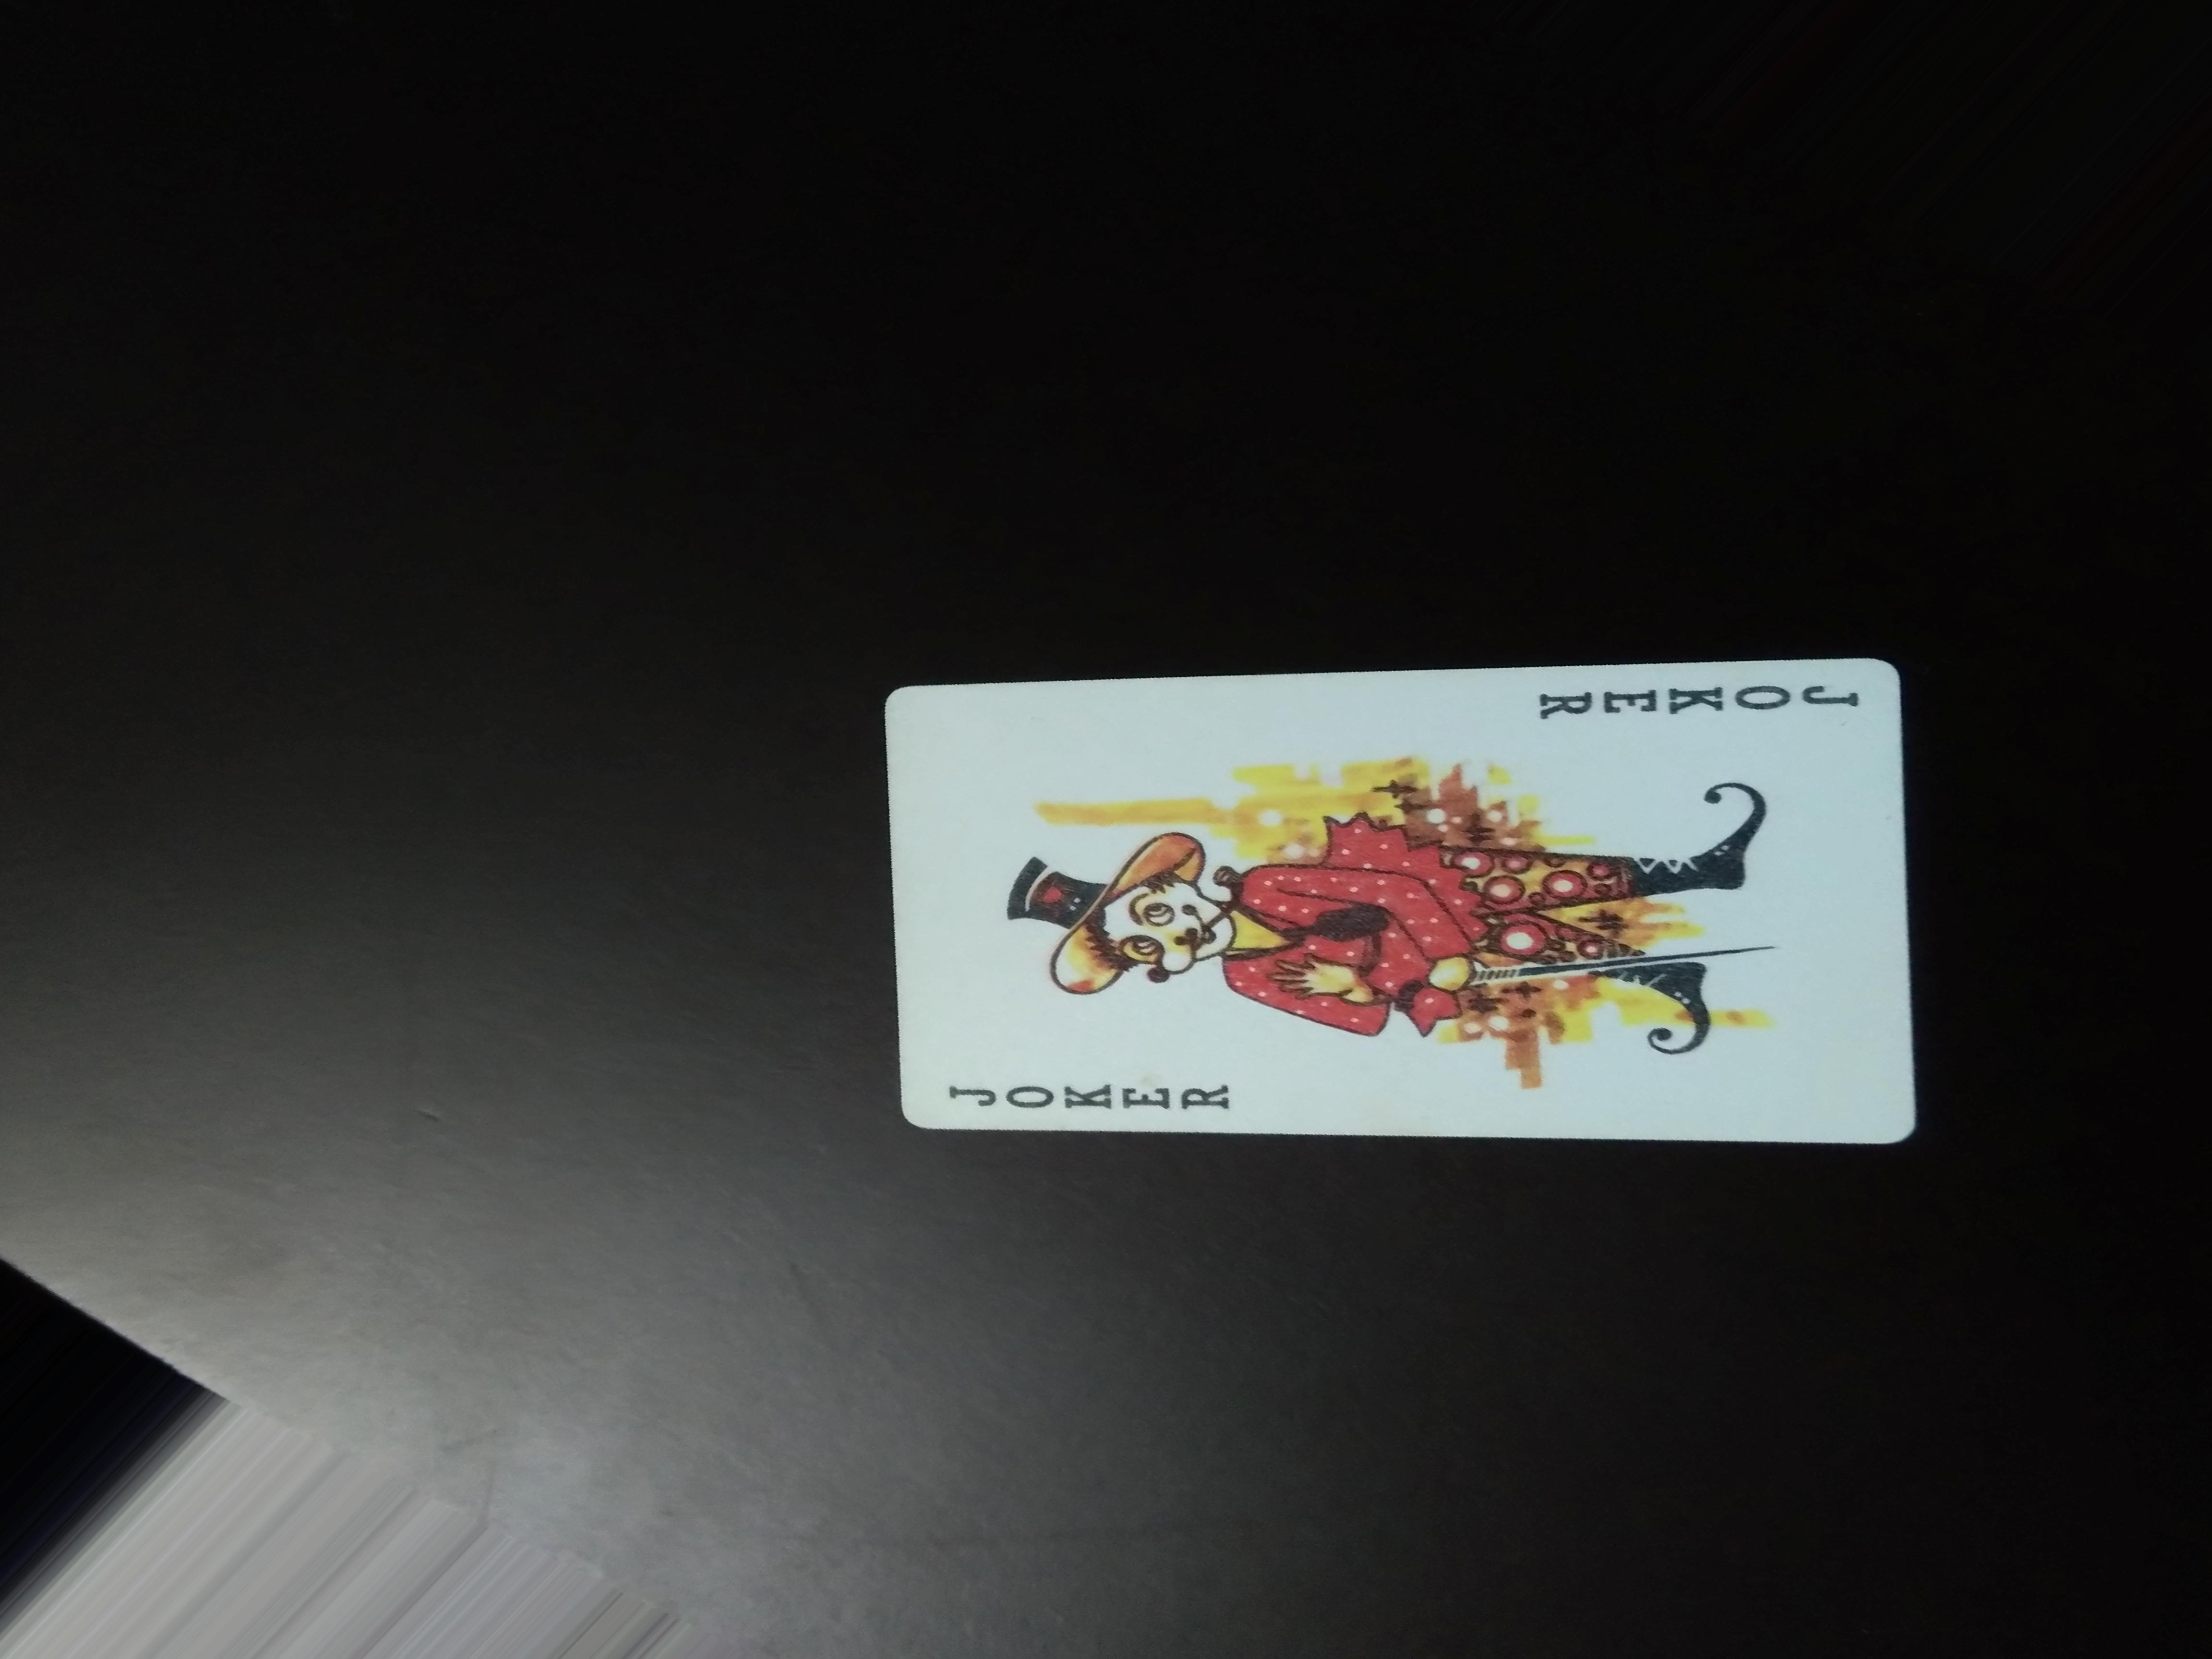JOKER: (928, 1049, 1143, 1134)
